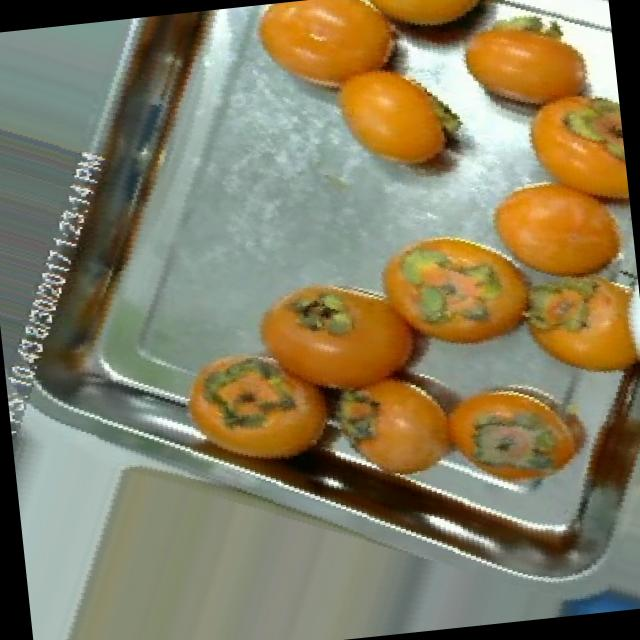Fruit: (148, 321, 368, 517), (355, 208, 556, 377), (310, 43, 483, 203), (431, 357, 612, 508), (434, 0, 618, 139), (466, 159, 638, 303)
